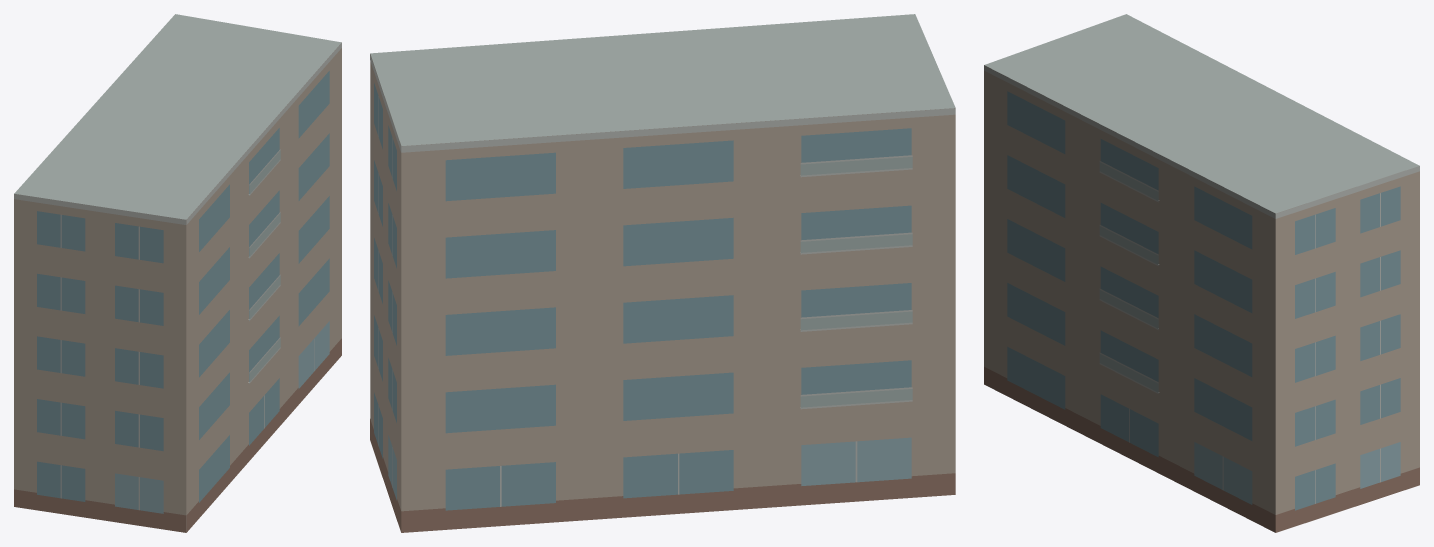
Rendered from survey-upis-32746249.glb.
The picture shows the model from 3 angles, left to right: view 1: azimuth 30°, elevation 25°; view 2: azimuth 150°, elevation 25°; view 3: azimuth 270°, elevation 25°; orthographic projection. The views are drawn at different scales.
Parts seen in each view (by area): view 1: survey-upis-32746249.tmp; view 2: survey-upis-32746249.tmp; view 3: survey-upis-32746249.tmp.
Part boxes in pixels (box(x1,y1,x2,y2)): survey-upis-32746249.tmp: box(14, 14, 341, 532); survey-upis-32746249.tmp: box(370, 14, 955, 532); survey-upis-32746249.tmp: box(984, 14, 1419, 532).
Size of the model in its own units: 19.04 by 14.2 by 17.57.
